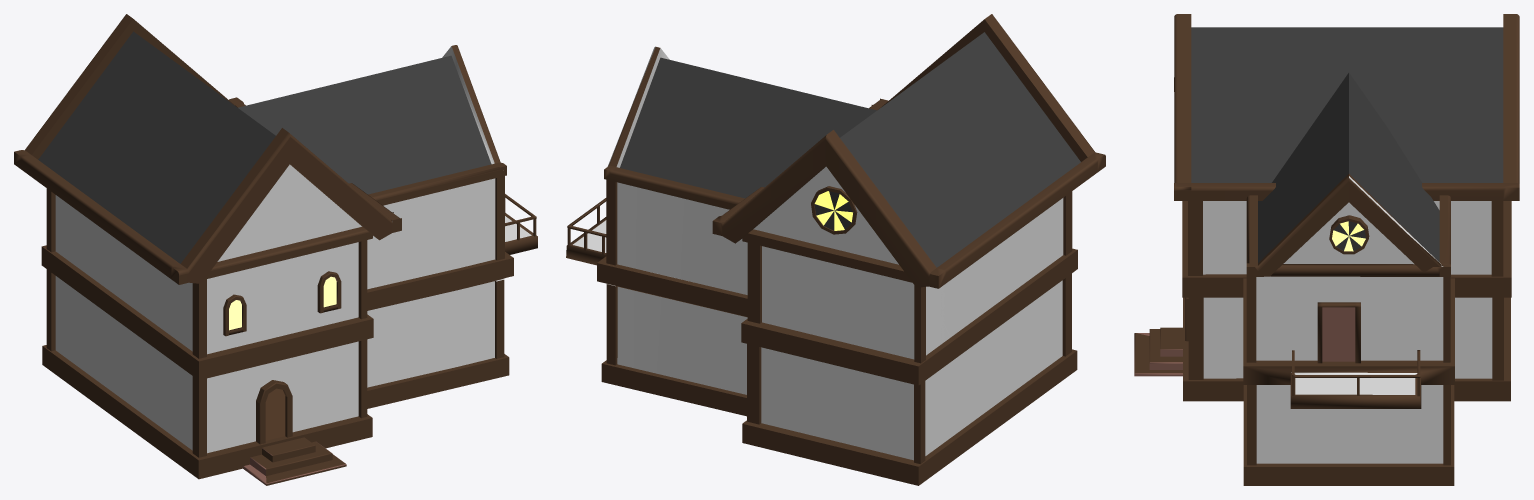
Rendered from HOUSE2.fbx.
The picture shows the model from 3 angles, left to right: view 1: azimuth 30°, elevation 25°; view 2: azimuth 150°, elevation 25°; view 3: azimuth 270°, elevation 25°; orthographic projection. The views are drawn at different scales.
Visible parts, largest first — view 1: house 1.002; view 2: house 1.002; view 3: house 1.002.
Part boxes in pixels (<box>): house 1.002: <box>14,14,537,485</box>; house 1.002: <box>566,14,1105,485</box>; house 1.002: <box>1134,14,1519,485</box>.
Size of the model in its own units: 355 by 268 by 273.
